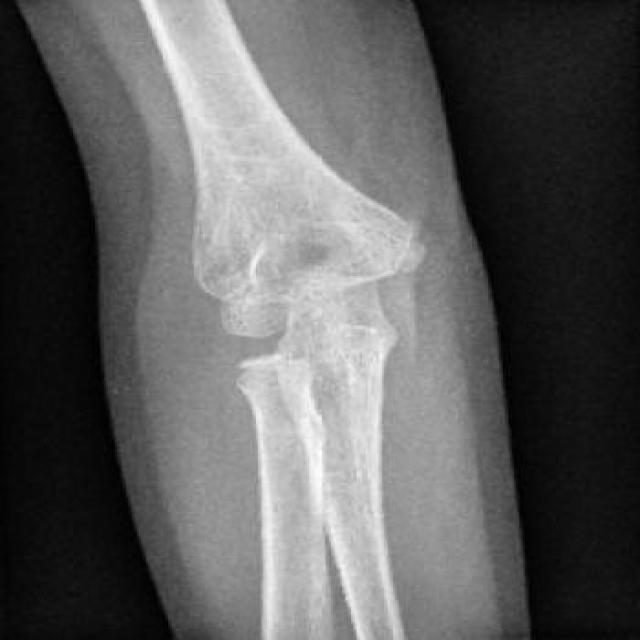Fracture: (199, 302, 324, 398)
